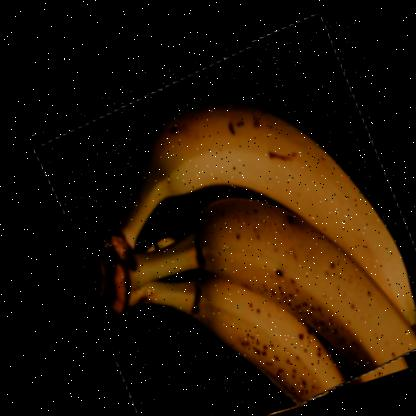banana: (19, 11, 415, 415)
